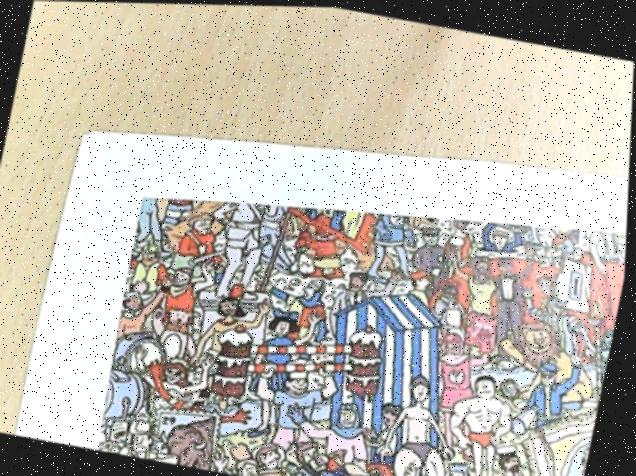waldo: (536, 268, 568, 296)
